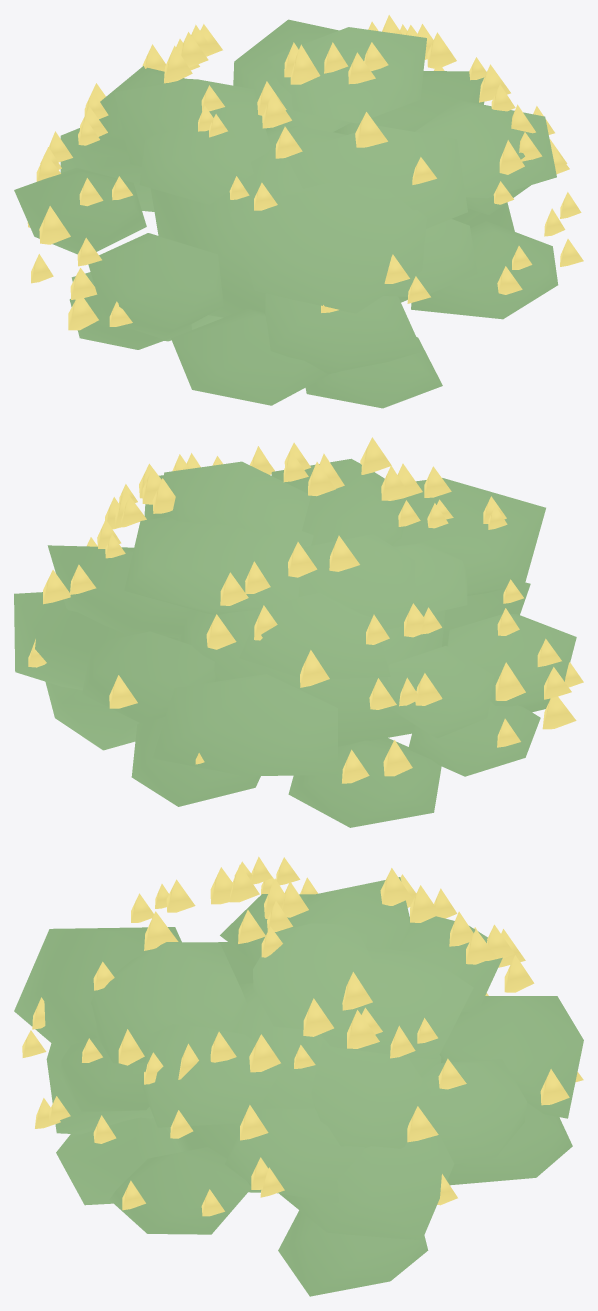
The model's file is Blender_Gorse_2_Far.glb.
The picture shows the model from 3 angles, top to bottom: view 1: azimuth 30°, elevation 25°; view 2: azimuth 150°, elevation 25°; view 3: azimuth 270°, elevation 25°; orthographic projection. The views are drawn at different scales.
Visible parts, largest first — view 1: Blender_Gorse_2_Far; view 2: Blender_Gorse_2_Far; view 3: Blender_Gorse_2_Far.
Part boxes in pixels (bbox=[...]): Blender_Gorse_2_Far: bbox=[14, 15, 583, 408]; Blender_Gorse_2_Far: bbox=[14, 437, 583, 827]; Blender_Gorse_2_Far: bbox=[14, 856, 583, 1296].
Size of the model in its own units: 2.29 by 1.3 by 2.12.
